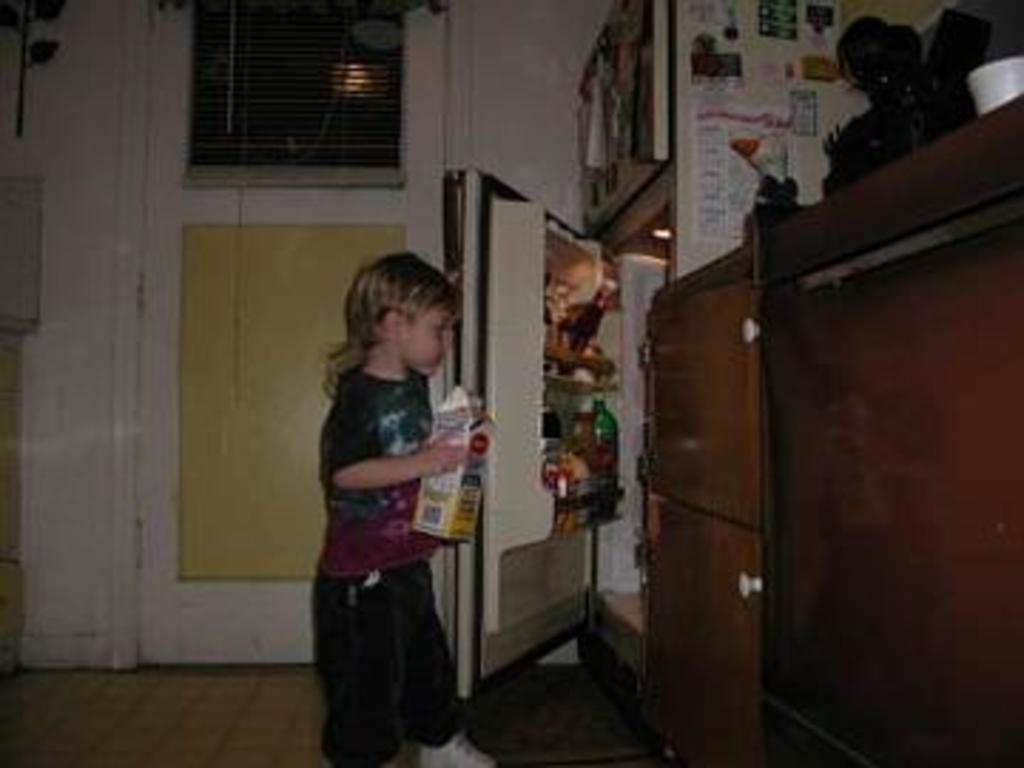cabinet door: (658, 519, 762, 749), (654, 307, 770, 503)
handle: (735, 567, 765, 608), (735, 307, 762, 346)
refrigerator door: (468, 194, 591, 621), (585, 69, 679, 174)
